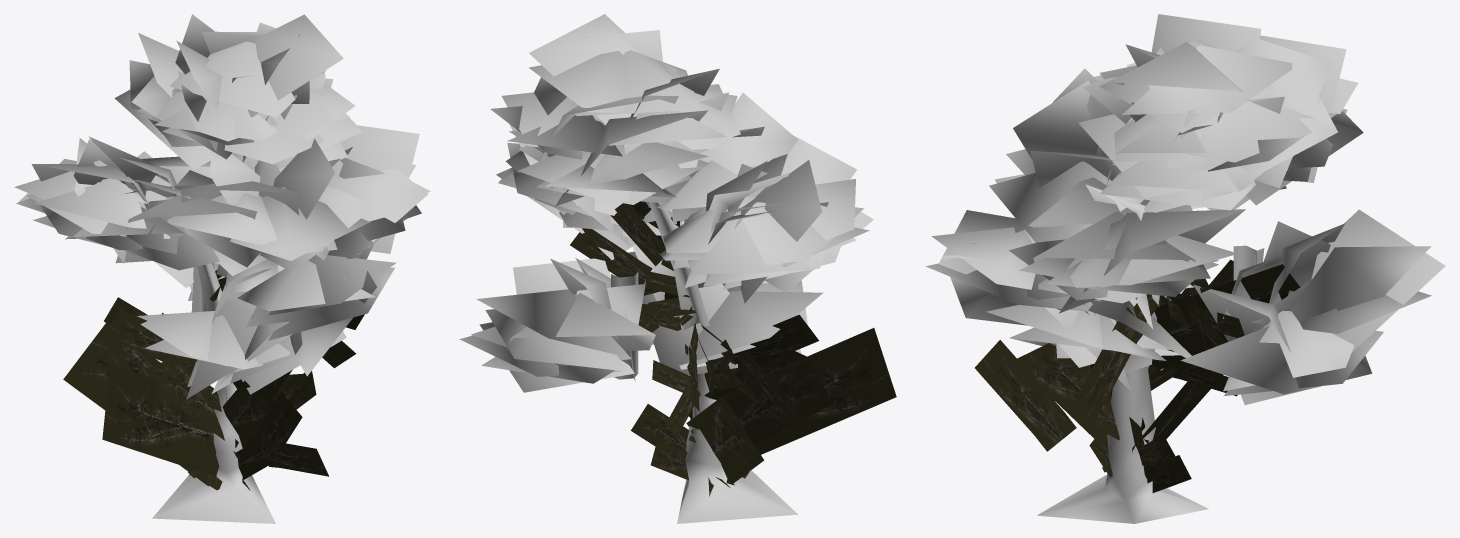
Rendered from Tree1Lod1.FBX.
The picture shows the model from 3 angles, left to right: view 1: azimuth 30°, elevation 25°; view 2: azimuth 150°, elevation 25°; view 3: azimuth 270°, elevation 25°; orthographic projection. The views are drawn at different scales.
Parts seen in each view (by area): view 1: Tree1Lod1; view 2: Tree1Lod1; view 3: Tree1Lod1.
Part boxes in pixels (x1=…): Tree1Lod1: x1=14, y1=14, x2=430, y2=523; Tree1Lod1: x1=459, y1=14, x2=896, y2=523; Tree1Lod1: x1=925, y1=14, x2=1445, y2=523.
Size of the model in its own units: 323 by 370 by 348.
